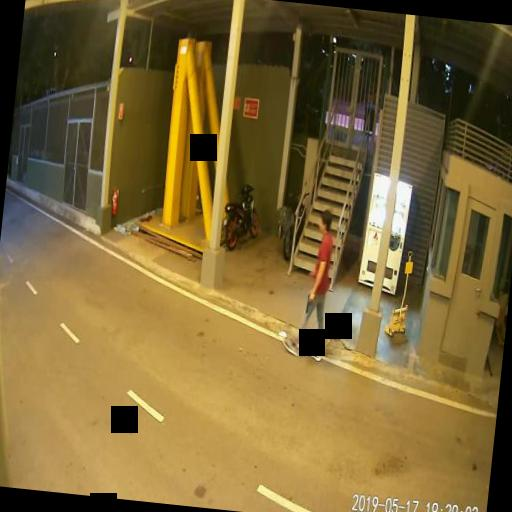Handgun: (304, 290, 314, 313)
